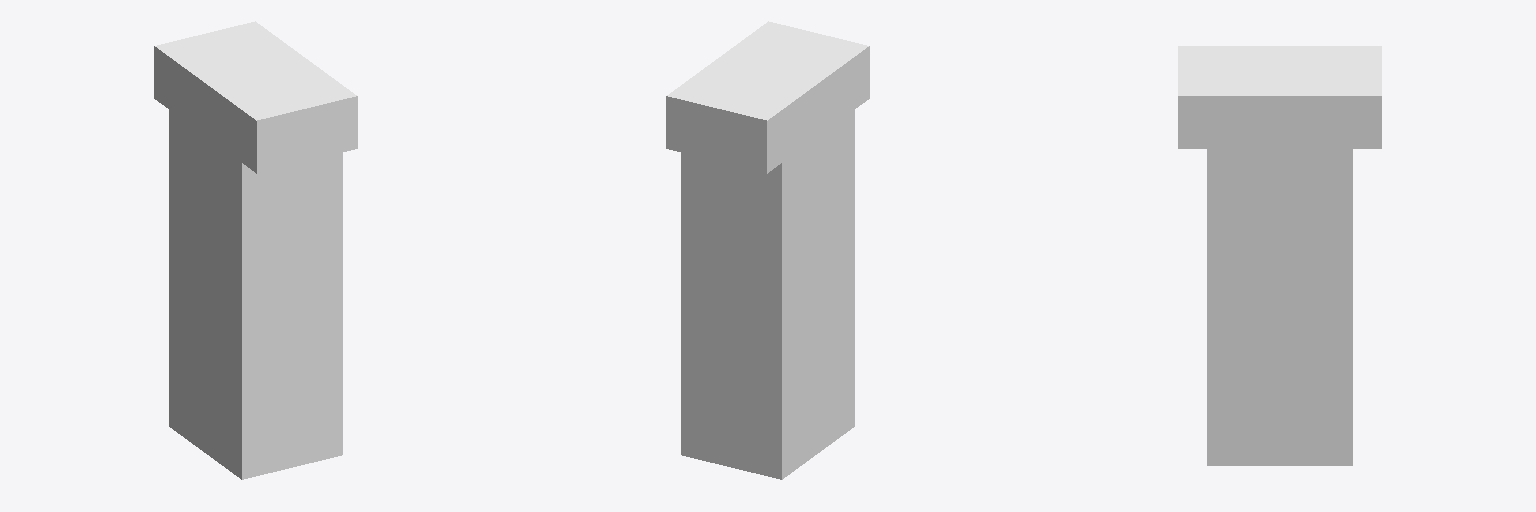
File: Character-1-RarmDown.obj
The picture shows the model from 3 angles: view 1: azimuth 30°, elevation 25°; view 2: azimuth 150°, elevation 25°; view 3: azimuth 270°, elevation 25°; orthographic projection.
Parts seen in each view (by area): view 1: RarmDown; view 2: RarmDown; view 3: RarmDown.
Part boxes in pixels (left/top/right/bottom): RarmDown: left=154, top=21, right=357, bottom=479; RarmDown: left=666, top=21, right=869, bottom=479; RarmDown: left=1178, top=46, right=1381, bottom=465.
Bounding box in the file's own units: 0.4 × 1.4 × 0.7.